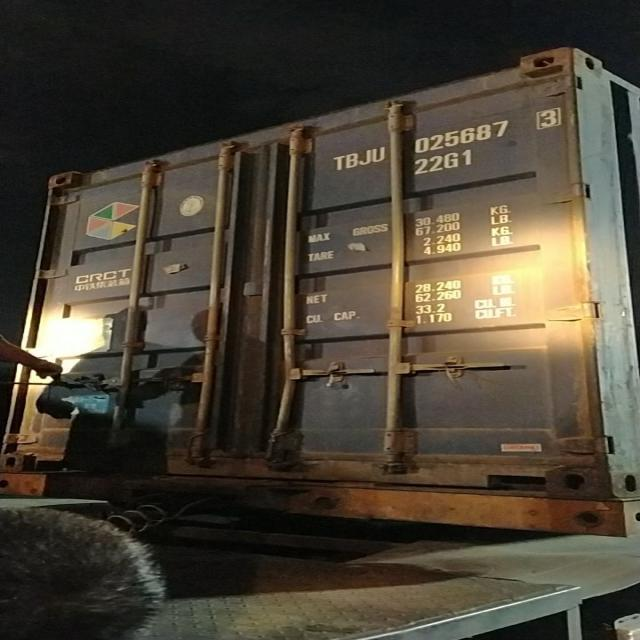ISO: (406, 148, 489, 176)
container_number: (332, 100, 568, 172)
